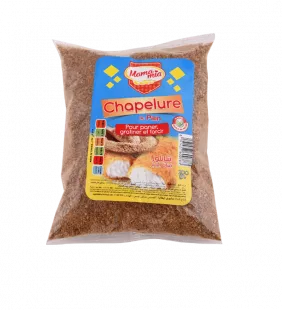MAMA MIA: (36, 27, 229, 253)
